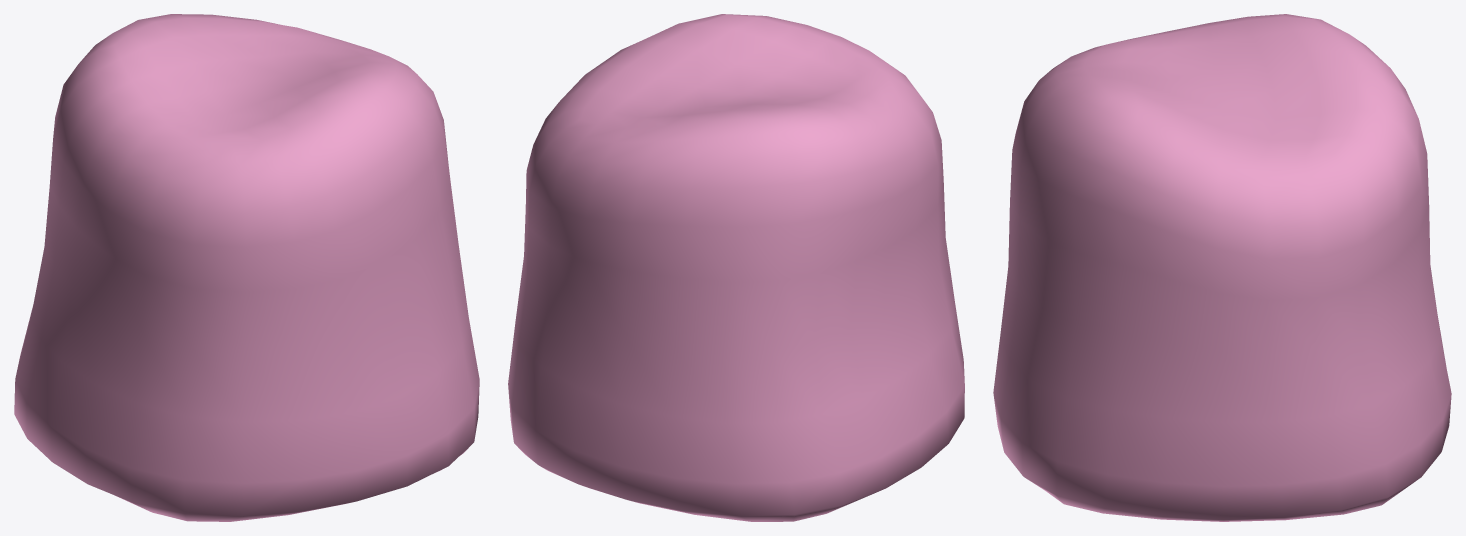
Rendered from Marshmellow.fbx.
3 views of the same model, side by side, from view 1: azimuth 30°, elevation 25°; view 2: azimuth 150°, elevation 25°; view 3: azimuth 270°, elevation 25° (orthographic). The views are drawn at different scales.
Parts seen in each view (by area): view 1: MellowBig2; view 2: MellowBig2; view 3: MellowBig2.
Part boxes in pixels (bbox=[...]): MellowBig2: bbox=[14, 14, 479, 521]; MellowBig2: bbox=[508, 14, 964, 521]; MellowBig2: bbox=[993, 14, 1451, 521].
Size of the model in its own units: 257 by 238 by 261.
